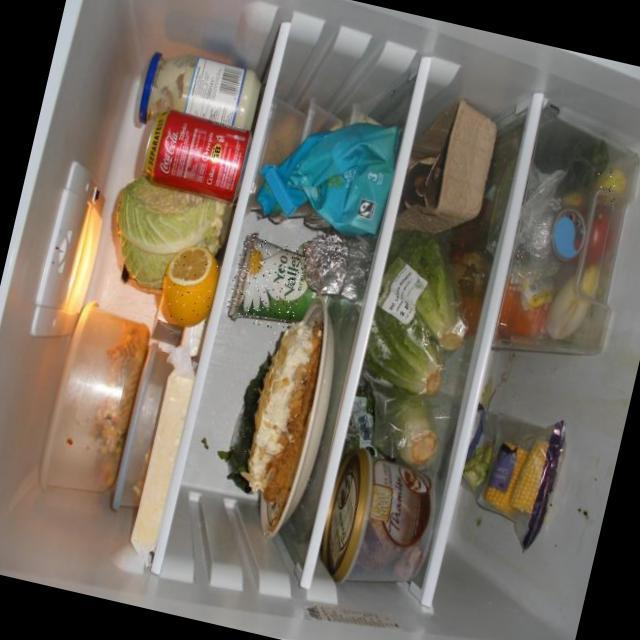Yogur: (224, 232, 310, 331)
